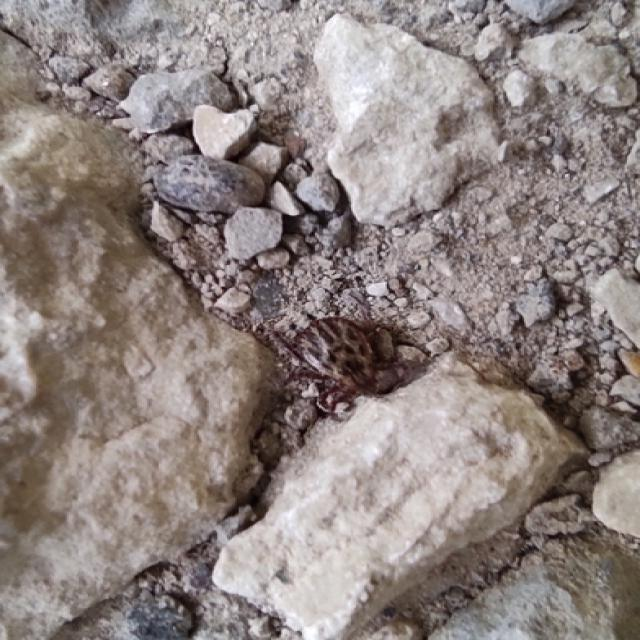Dermacentor Reticulatus-M: (282, 317, 413, 421)
